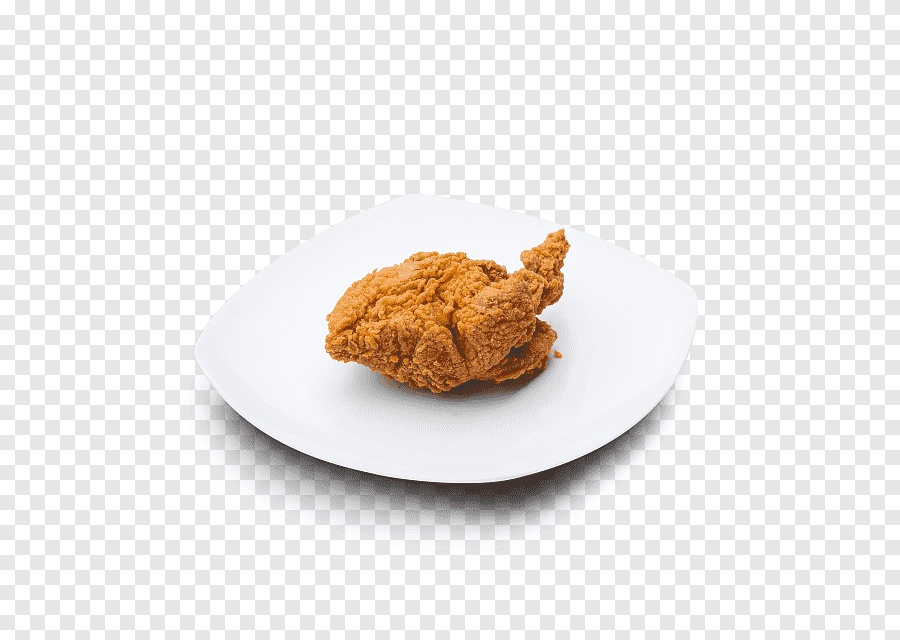ayam_goreng: (306, 224, 589, 416)
